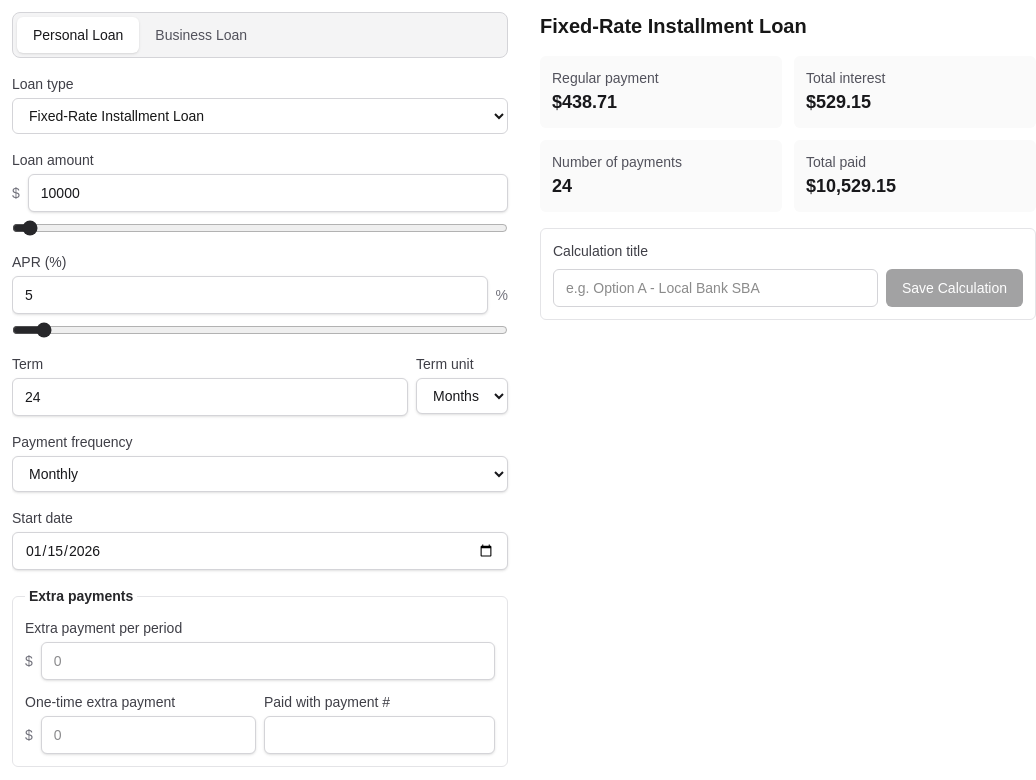
Test: Calculator form (REQ-UI-003, REQ-NFR-CODE2) › offers only personal loan types in Personal mode and business types in Business mode
Click the radio button labelled "Business Loan" at {"x": 201, "y": 35}, box [139,17,263,53]
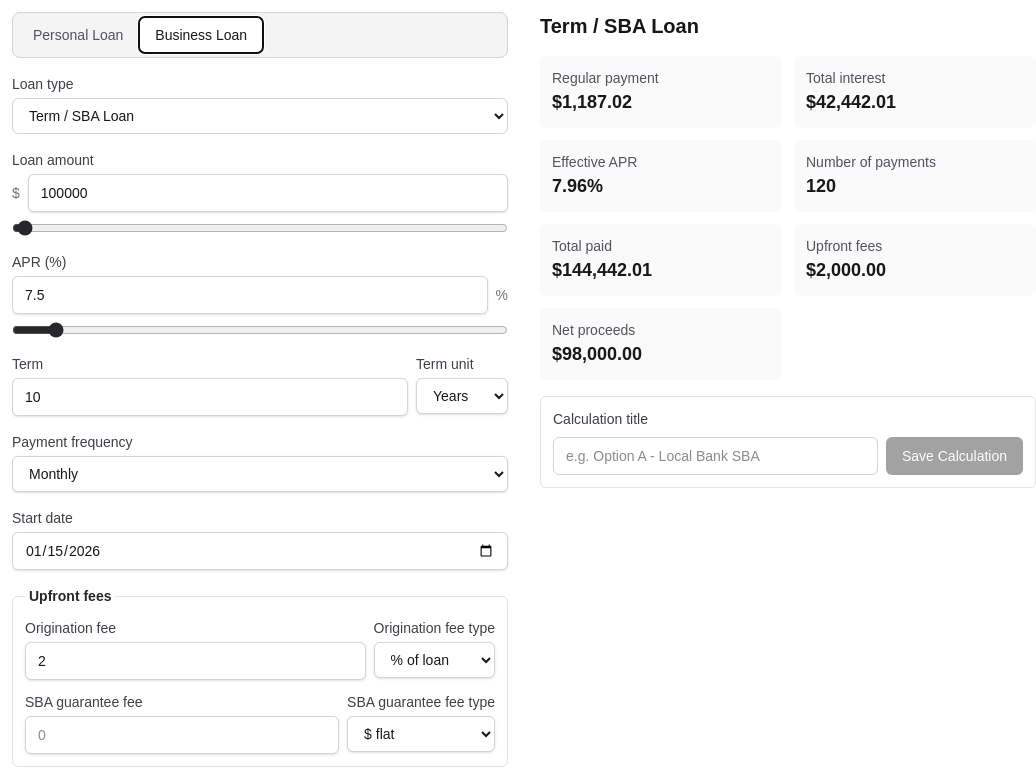
Now the dropdown labelled "Loan type" shows "Term / SBA Loan", box [12,98,508,134]
